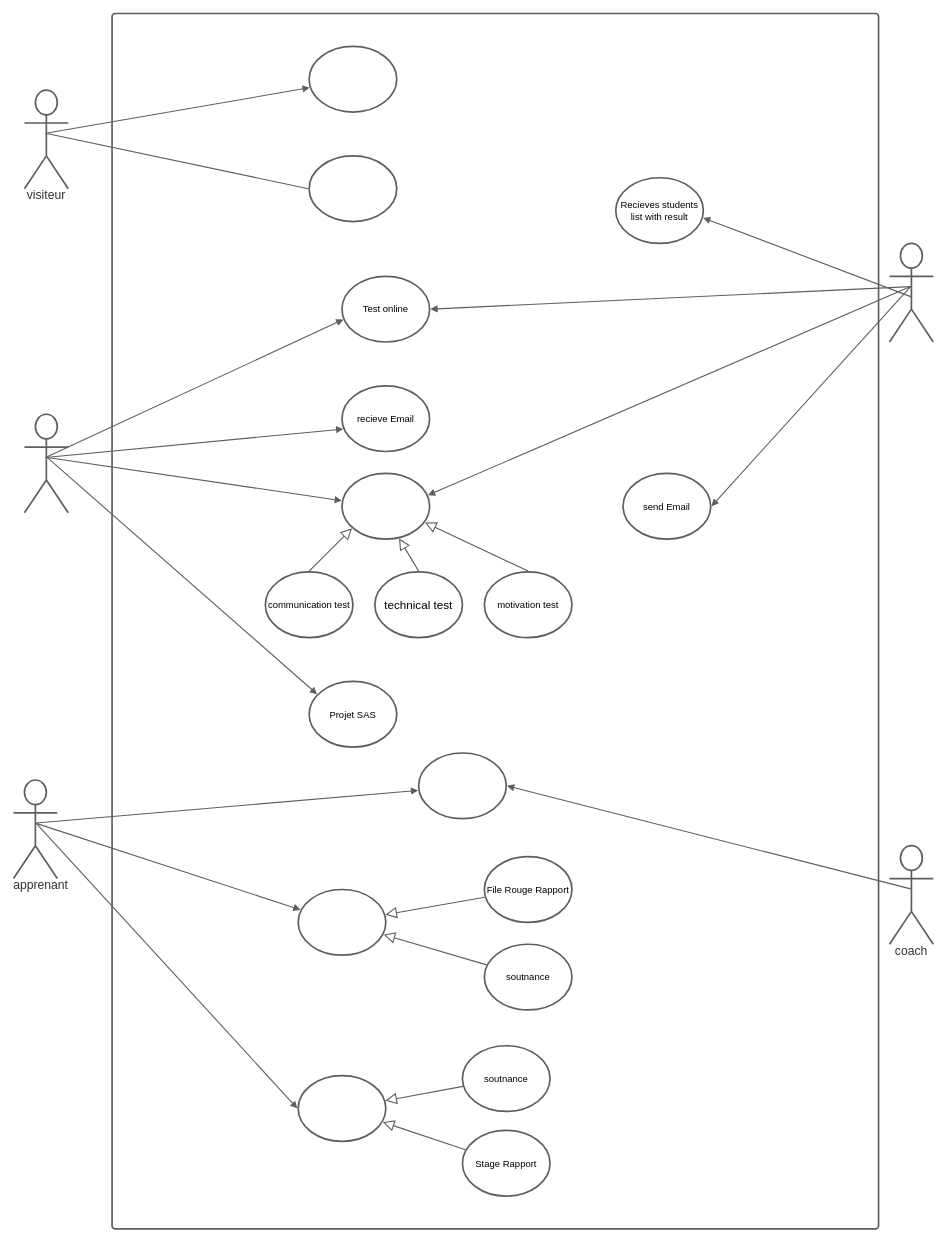
This 947x1242 diagram has some shape labels left out. Here are the shapes that lost their labels. From the top down, the centre of each, then its label:
At pixel 352 79: "register".
At pixel 352 188: "navigate website".
At pixel 911 292: "staff".
At pixel 46 463: "candidat".
At pixel 385 506: "sourcing".
At pixel 462 785: "briefs".
At pixel 341 922: "file rouge".
At pixel 341 1108: "stage".
